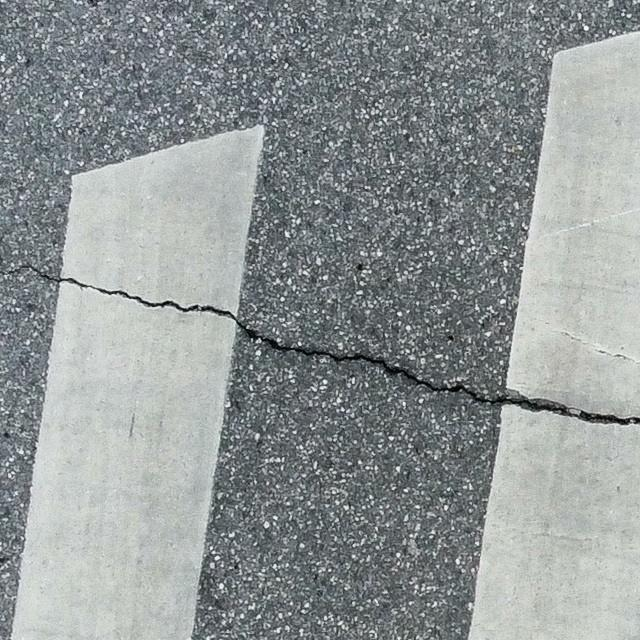TransverseCrack: (1, 262, 640, 427)
